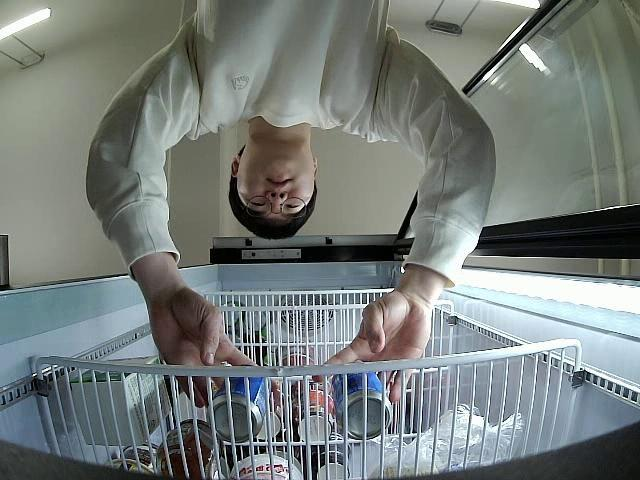15_letsbe: (208, 360, 276, 444), (330, 368, 392, 441)
